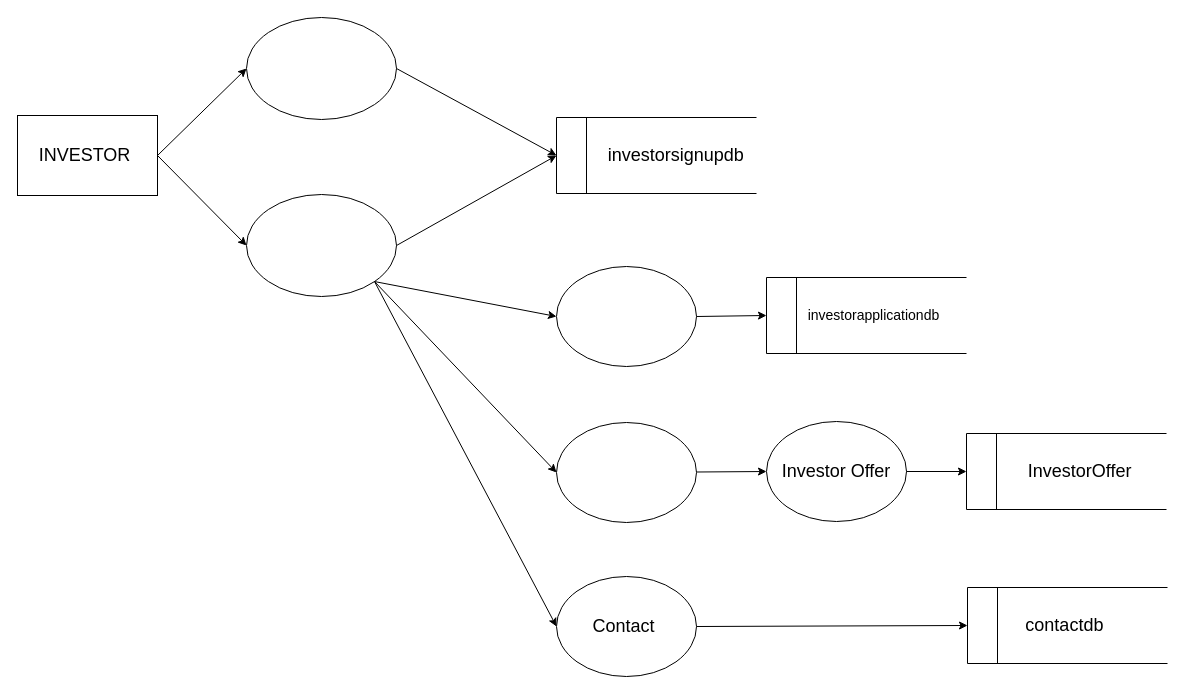
This 1185x694 diagram has some shape labels left out. The centre of each missing label's shape, as x and y in pixels:
"Invest Now" goes at [626,316].
"Investor Login" goes at [626,472].
"SIGN IN" goes at [321,245].
"SIGN UP" goes at [321,68].
